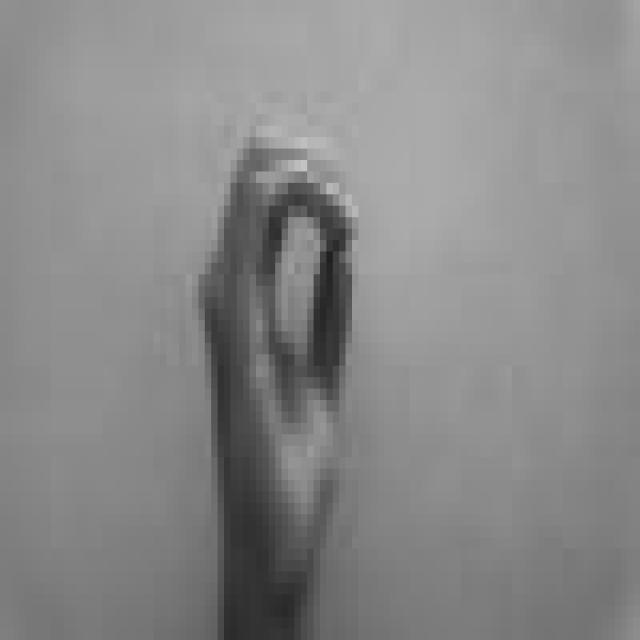O: (192, 120, 365, 589)
